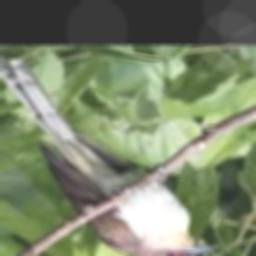Cuckoo: (0, 55, 214, 256)
